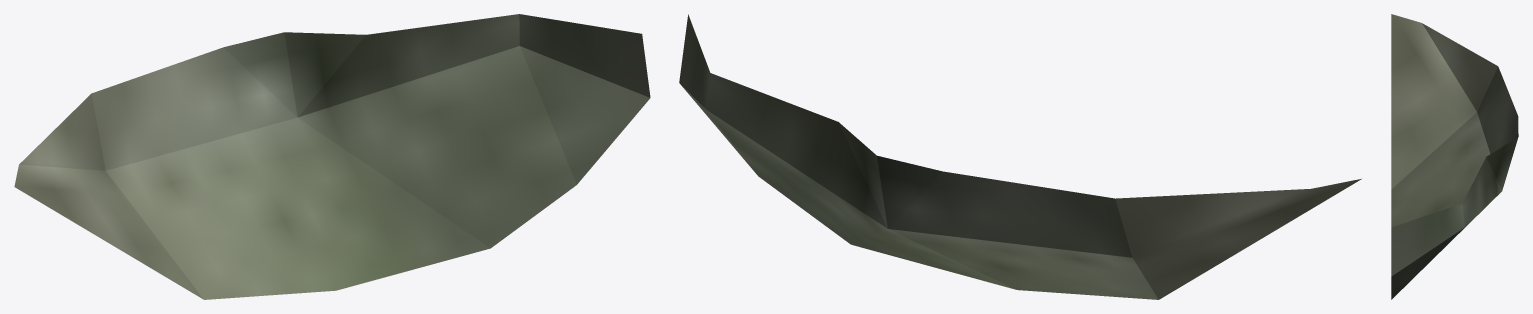
3 renders of one model, left to right at view 1: azimuth 30°, elevation 25°; view 2: azimuth 150°, elevation 25°; view 3: azimuth 270°, elevation 25°, orthographic. The views are drawn at different scales.
Bounding box in the file's own units: 0.489 × 0.1339 × 0.1213.
1 material, 1 textured.
